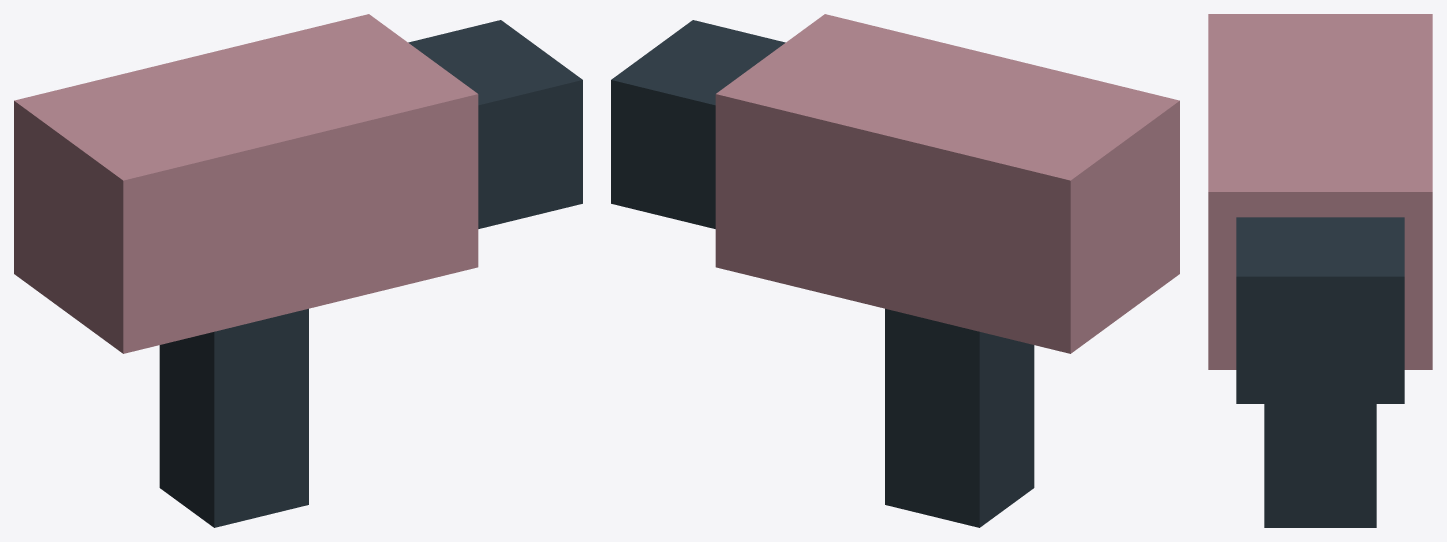
Rendered from beauty-08.glb.
3 renders of one model, left to right at view 1: azimuth 30°, elevation 25°; view 2: azimuth 150°, elevation 25°; view 3: azimuth 270°, elevation 25°, orthographic. The views are drawn at different scales.
Visible parts, largest first — view 1: Hair dryer; view 2: Hair dryer; view 3: Hair dryer.
Boxes of the visible parts, <box> form: Hair dryer: <box>14,14,582,527</box>; Hair dryer: <box>611,14,1179,527</box>; Hair dryer: <box>1208,14,1432,527</box>.
Size of the model in its own units: 1.6 by 1.28 by 0.64.
